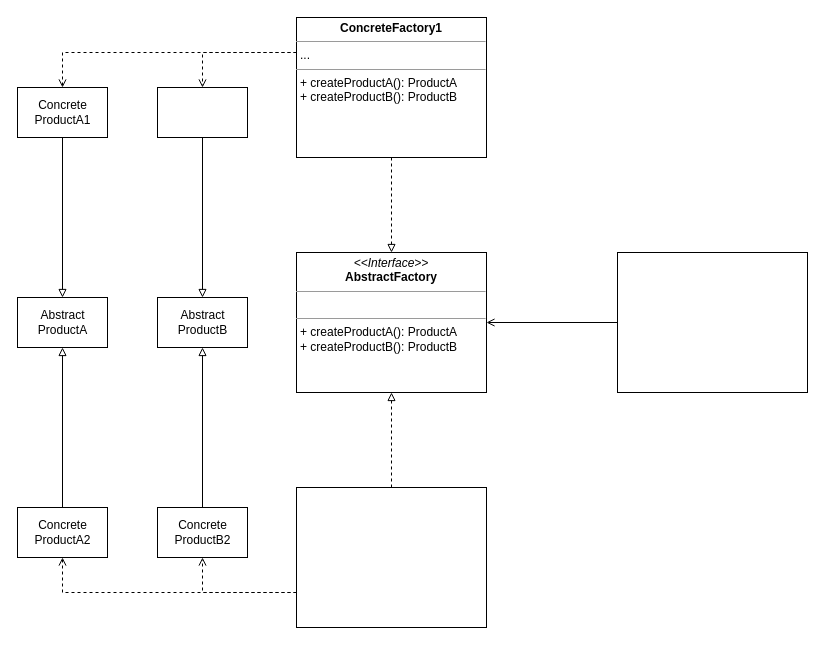
Some shapes in this 825 by 645 pixel diagram are drawn without their labels. Here are the shapes that lost their labels. From the top down, the centre of each, then its label:
At point (202, 112): "Concrete ProductB1".
At point (712, 322): "Client - factory: AbstractFactory + Client(f: AbstractFactory) + someOperation()".
At point (391, 557): "ConcreteFactory2 ... + createProductA(): ProductA + createProductB(): ProductB".
